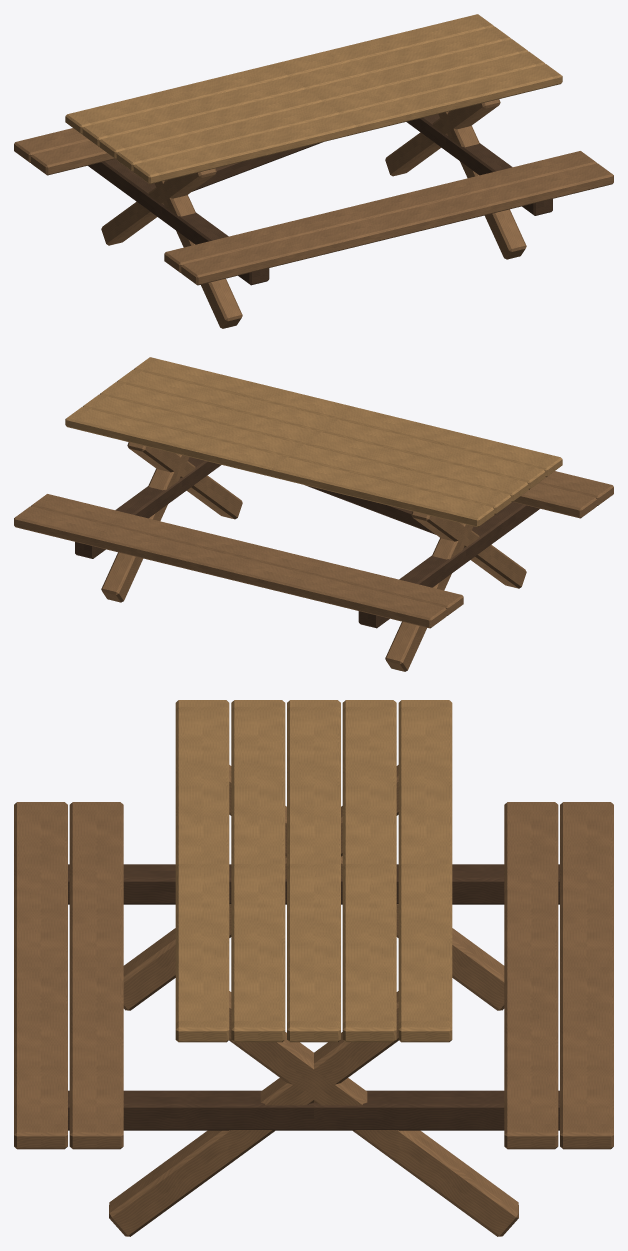
The model's file is picnic_table.glb.
3 views of the same model, one above another, from view 1: azimuth 30°, elevation 25°; view 2: azimuth 150°, elevation 25°; view 3: azimuth 270°, elevation 25° (orthographic). The views are drawn at different scales.
Parts seen in each view (by area): view 1: picnic_table_Mesh; view 2: picnic_table_Mesh; view 3: picnic_table_Mesh.
Boxes of the visible parts, x1,y1,x2,y2 form: picnic_table_Mesh: [14, 14, 613, 328]; picnic_table_Mesh: [14, 357, 613, 671]; picnic_table_Mesh: [14, 700, 613, 1236].
Size of the model in its own units: 2.12 by 0.7562 by 1.62.
Materials: 3 (3 with a texture image).
